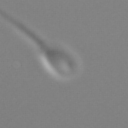normal: (1, 6, 49, 52)
